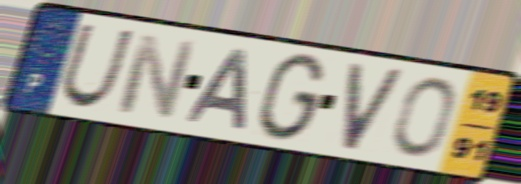A: (183, 48, 250, 134)
G: (253, 51, 329, 144)
N: (113, 31, 199, 123)
O: (389, 74, 458, 161)
U: (57, 21, 138, 111)
V: (339, 60, 409, 154)
